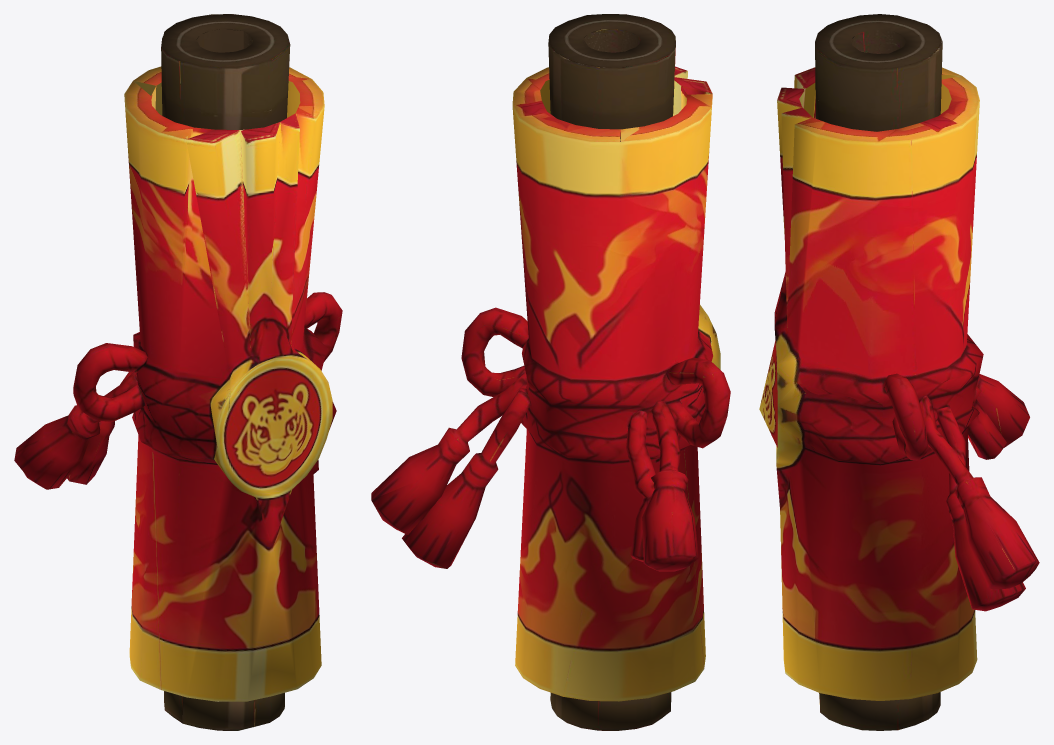
Rendered from Scroll.fbx.
3 views of the same model, side by side, from view 1: azimuth 30°, elevation 25°; view 2: azimuth 150°, elevation 25°; view 3: azimuth 270°, elevation 25° (orthographic).
Visible parts, largest first — view 1: Scroll; view 2: Scroll; view 3: Scroll.
Boxes of the visible parts, x1,y1,x2,y2 form: Scroll: [14, 14, 342, 730]; Scroll: [371, 14, 730, 730]; Scroll: [759, 14, 1039, 730].
Bounding box in the file's own units: 0.3516 × 0.7 × 0.2682.
1 material, 1 textured.
